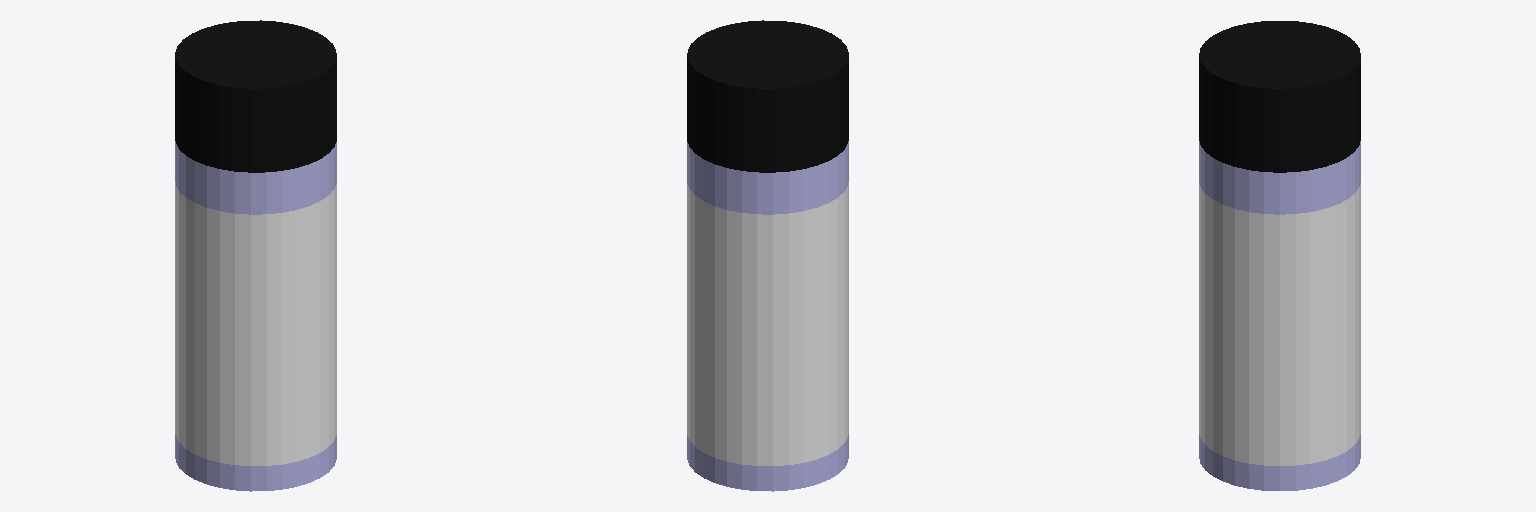
URDF robot description (salt_shaker):
<robot name="salt_shaker">
  <link name="salt_shaker">

    <!-- Bottom glass -->
    <collision>
      <origin xyz="0 0 0.003" />
      <geometry>
        <cylinder radius="0.0175" length="0.006" />
      </geometry>
    </collision>
    <visual>
      <origin xyz="0 0 0.003" />
      <material name="glass">
        <color rgba="0.78 0.78 0.98 0.38" />
      </material>
      <geometry>
        <cylinder radius="0.0175" length="0.006" />
      </geometry>
    </visual>

    <!-- Salt -->
    <collision>
      <origin xyz="0 0 0.036" />
      <geometry>
        <cylinder radius="0.0175" length="0.06" />
      </geometry>
    </collision>
    <visual>
      <origin xyz="0 0 0.036" />
      <material name="steel">
        <color rgba="0.98 0.98 0.98 0.98" />
      </material>
      <geometry>
        <cylinder radius="0.0175" length="0.06" />
      </geometry>
    </visual>

    <!-- Top glass -->
    <collision>
      <origin xyz="0 0 0.071" />
      <geometry>
        <cylinder radius="0.0175" length="0.01" />
      </geometry>
    </collision>
    <visual>
      <origin xyz="0 0 0.071" />
      <material name="glass">
        <color rgba="0.78 0.78 0.98 0.38" />
      </material>
      <geometry>
        <cylinder radius="0.0175" length="0.01" />
      </geometry>
    </visual>

    <!-- Lid -->
    <collision>
      <origin xyz="0 0 0.086" />
      <geometry>
        <cylinder radius="0.0175" length="0.02" />
      </geometry>
    </collision>
    <visual>
      <origin xyz="0 0 0.086" />
      <material name="black">
        <color rgba="0.1 0.1 0.1 1.0" />
      </material>
      <geometry>
        <cylinder radius="0.0175" length="0.02" />
      </geometry>
    </visual>
  </link>
</robot>

--- Render facts (derived) ---
3 views of the same robot in one strip: view 1: azimuth 30°, elevation 25°; view 2: azimuth 150°, elevation 25°; view 3: azimuth 270°, elevation 25° (orthographic).
Model salt_shaker with 1 links and 0 joints (none), rooted at salt_shaker, posed all joints at 0.
Links seen in each view (by area): view 1: salt_shaker; view 2: salt_shaker; view 3: salt_shaker.
Link boxes in pixels (x1,y1,x2,y2): salt_shaker: (175, 20, 336, 491); salt_shaker: (687, 20, 848, 491); salt_shaker: (1199, 21, 1360, 490).
Size in the robot's own frame: 0.035 by 0.035 by 0.096 metres.
Geometry: primitives only (box / cylinder / sphere), no mesh files.